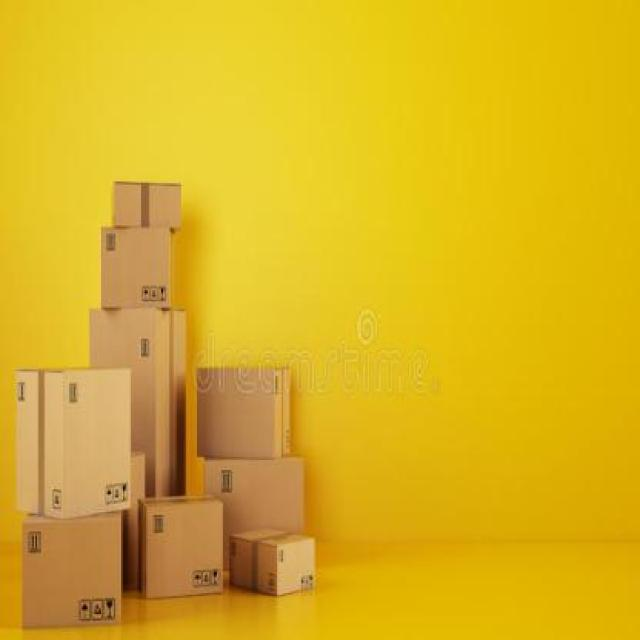box: (74, 282, 194, 509), (12, 352, 143, 530), (14, 509, 129, 637), (134, 496, 232, 608), (194, 358, 295, 465), (197, 454, 311, 540), (89, 216, 193, 309), (232, 522, 320, 604), (108, 170, 190, 232)
